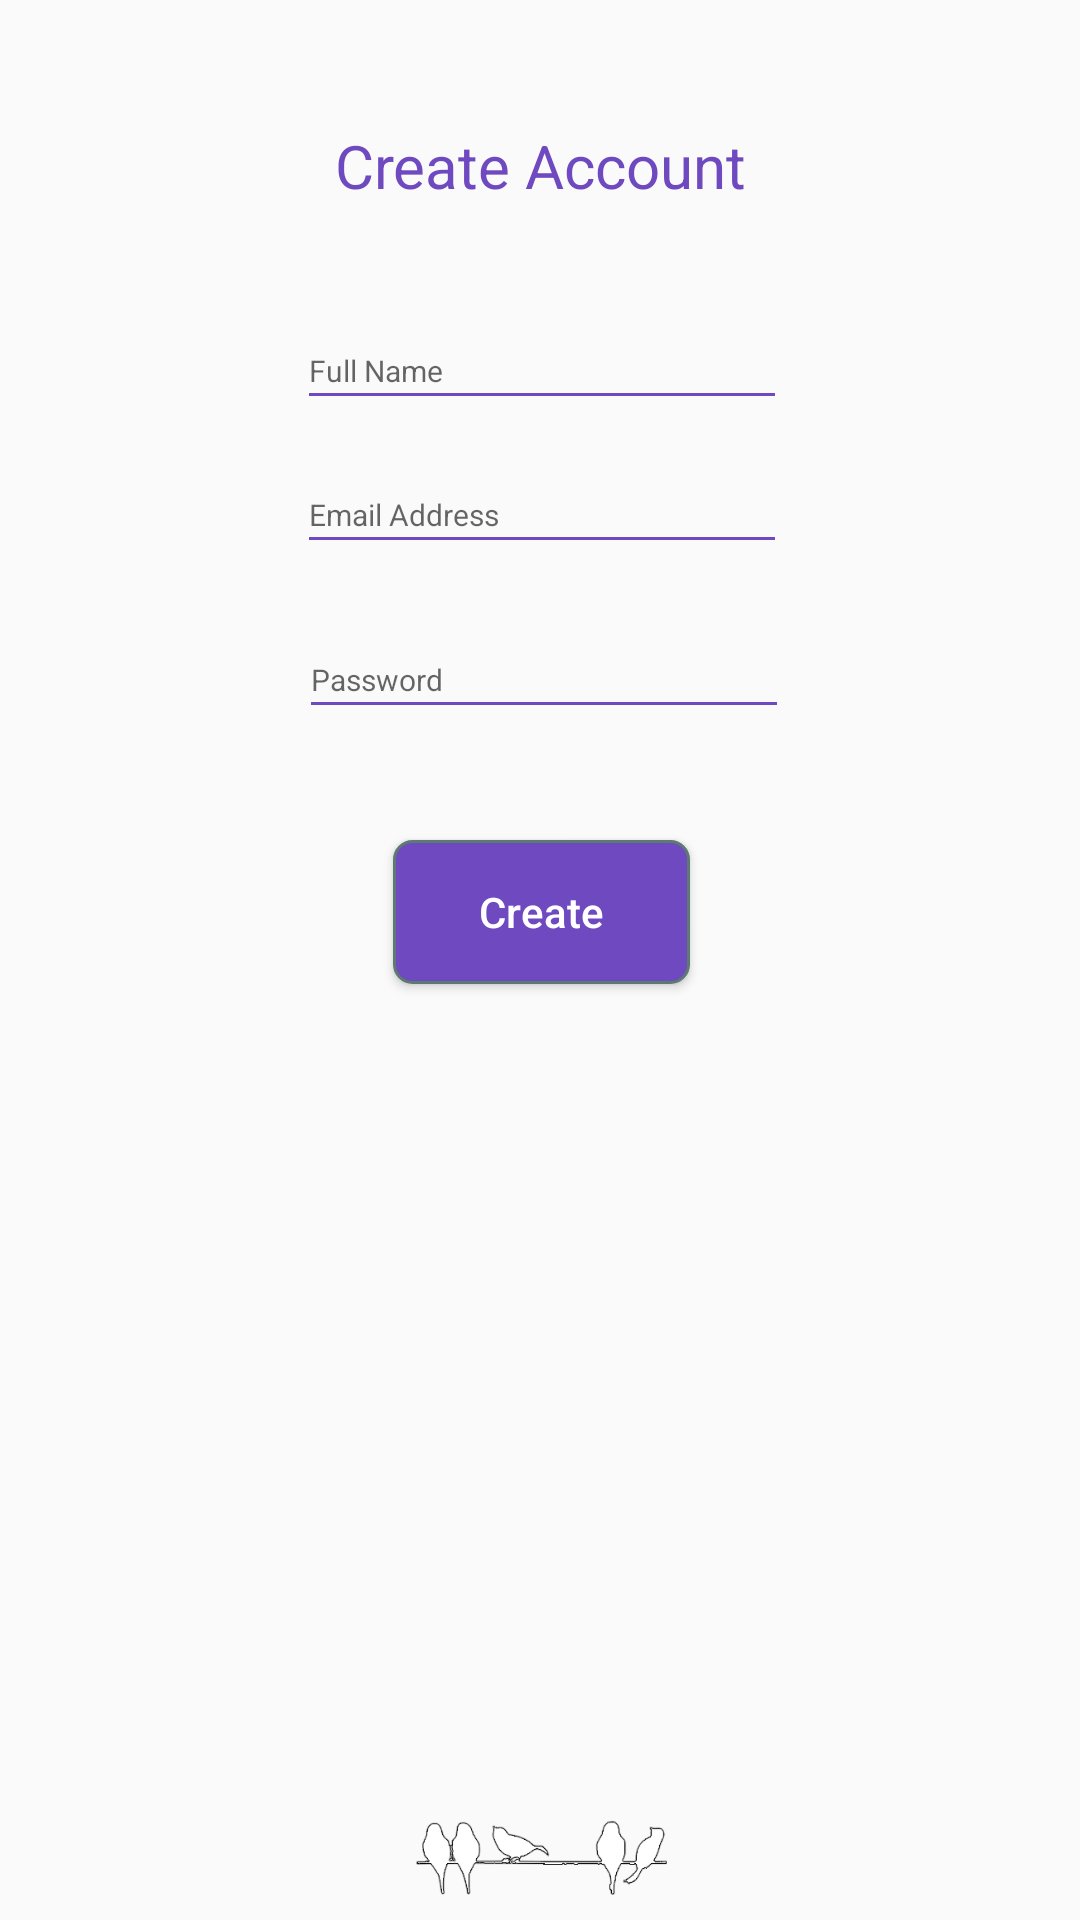

Icon bounding boxes for this 1080x1920 phone screenshot, format (x1, y1, x2, y2):
birds: (416, 1821, 667, 1895)
